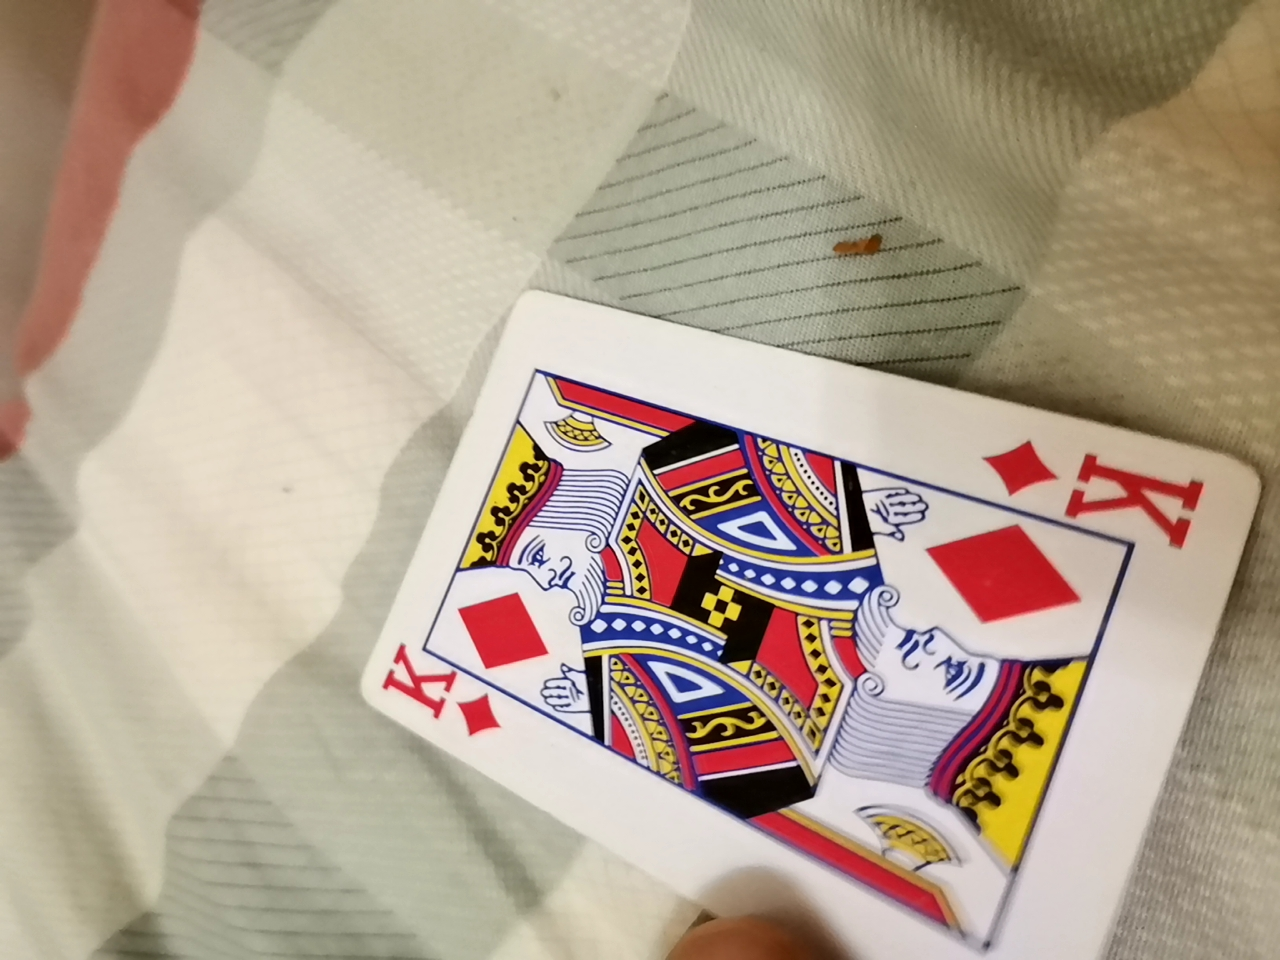fk k: (322, 272, 1267, 951)
